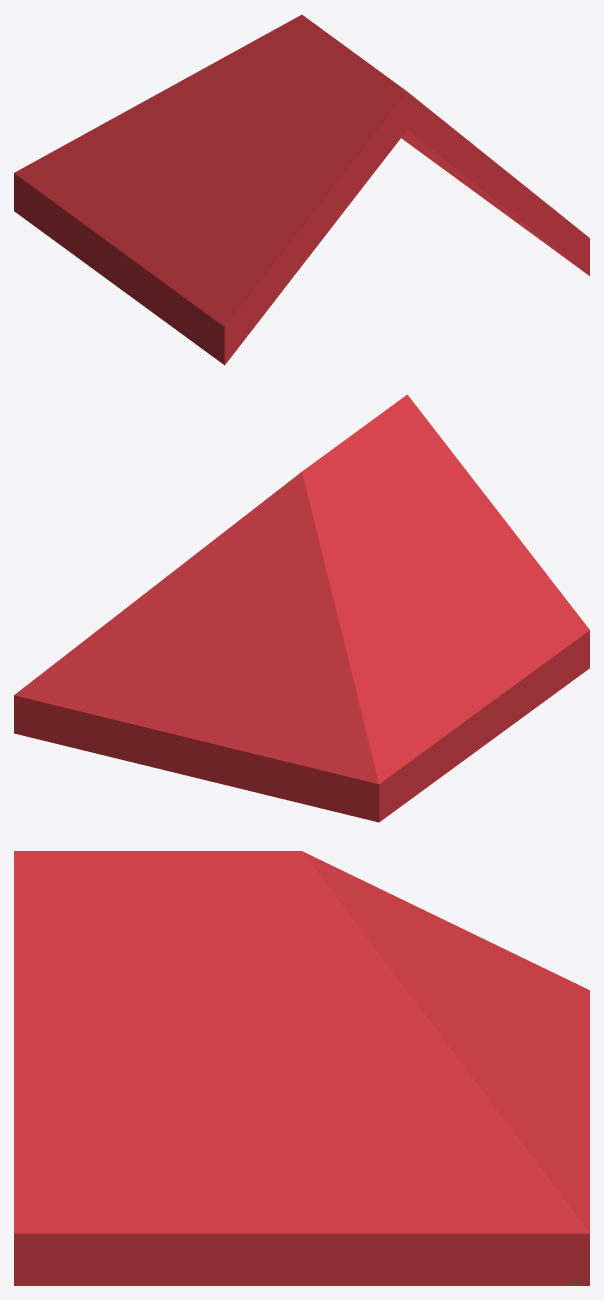
Rendered from roof_hip_end.glb.
3 views of the same model, one above another, from view 1: azimuth 30°, elevation 25°; view 2: azimuth 150°, elevation 25°; view 3: azimuth 270°, elevation 25° (orthographic). The views are drawn at different scales.
Parts seen in each view (by area): view 1: roof_hip_end; view 2: roof_hip_end; view 3: roof_hip_end.
Part boxes in pixels (box(x1,y1,x2,y2)): roof_hip_end: box(14, 14, 589, 365); roof_hip_end: box(14, 394, 589, 822); roof_hip_end: box(14, 851, 589, 1285).
Bounding box in the file's own units: 1 × 0.6 × 1.
